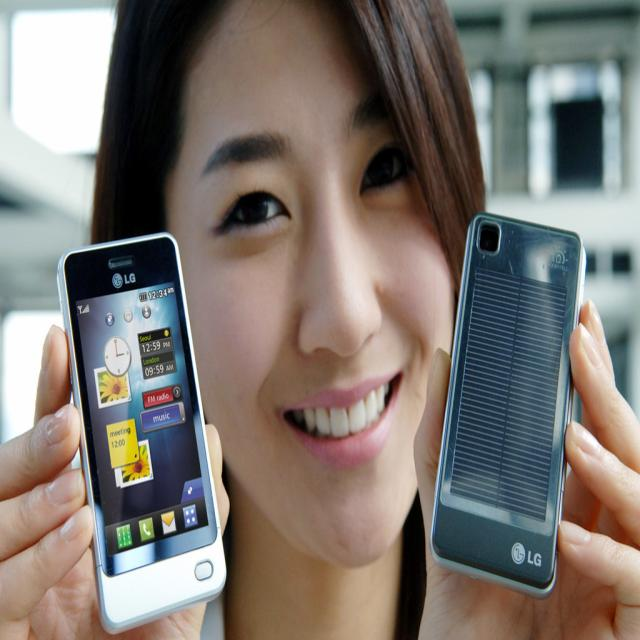Mobile-phone: (55, 230, 229, 638), (432, 215, 582, 602)
